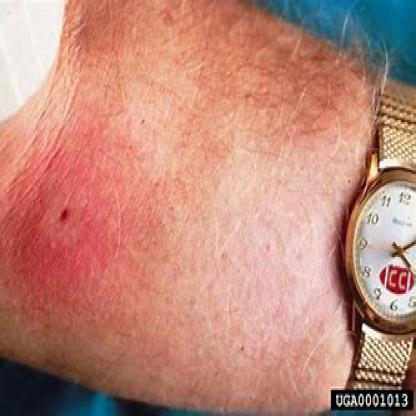Wasp: (30, 170, 106, 264)
